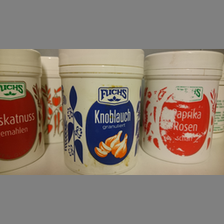spices: (59, 49, 144, 174), (141, 51, 224, 164), (1, 50, 45, 171)
